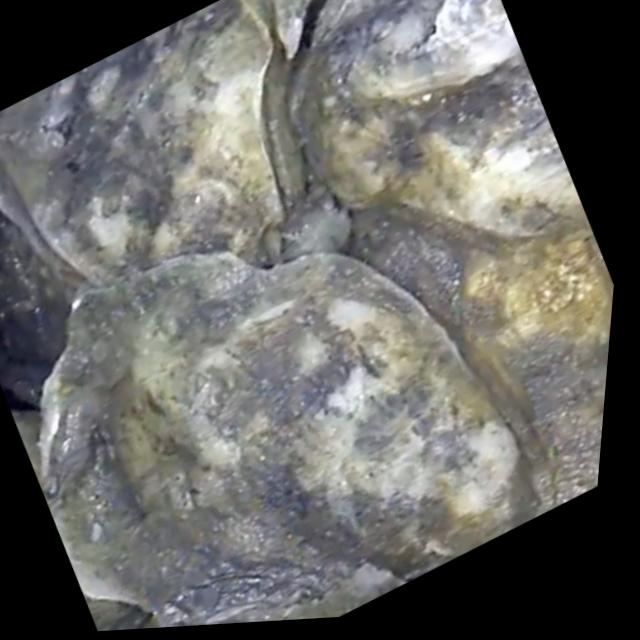Oyster-Closed: (41, 251, 541, 627), (0, 0, 307, 298)
Oyster-Indeterminate: (282, 144, 614, 512), (293, 0, 593, 260), (0, 209, 72, 409), (58, 529, 163, 631), (229, 569, 405, 623), (274, 0, 316, 55), (12, 411, 41, 487)
